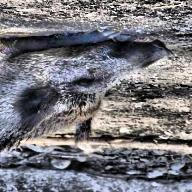boar: (0, 22, 174, 174)
